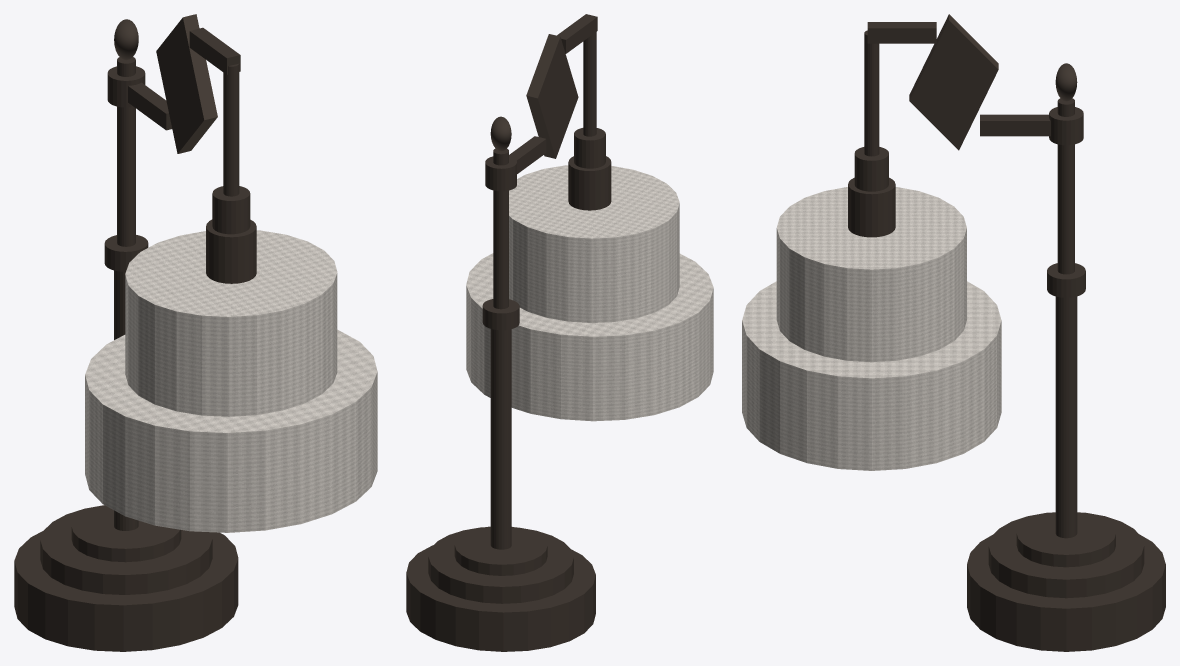
3 renders of one model, left to right at view 1: azimuth 30°, elevation 25°; view 2: azimuth 150°, elevation 25°; view 3: azimuth 270°, elevation 25°, orthographic. The views are drawn at different scales.
Visible parts, largest first — view 1: 16 shade_lower, 15 shade_upper, 1 base_bottom, 2 base_mid, 10 arm_curve_up, 3 base_top, 6 upper_stem, 14 socket_holder, 12 arm_drop, 13 socket_collar, 11 arm_top_arch, 9 arm_horizontal (+4 smaller); view 2: 16 shade_lower, 15 shade_upper, 1 base_bottom, 2 base_mid, 4 lower_stem, 10 arm_curve_up, 3 base_top, 6 upper_stem, 14 socket_holder, 12 arm_drop, 13 socket_collar, 5 mid_collar (+4 smaller); view 3: 16 shade_lower, 15 shade_upper, 1 base_bottom, 2 base_mid, 10 arm_curve_up, 4 lower_stem, 3 base_top, 6 upper_stem, 14 socket_holder, 12 arm_drop, 9 arm_horizontal, 11 arm_top_arch (+4 smaller).
Boxes of the visible parts, bbox=[...] form: 16 shade_lower: bbox=[85, 329, 377, 532]; 15 shade_upper: bbox=[125, 230, 337, 416]; 1 base_bottom: bbox=[14, 531, 238, 651]; 2 base_mid: bbox=[40, 505, 212, 594]; 10 arm_curve_up: bbox=[156, 14, 217, 153]; 3 base_top: bbox=[71, 505, 181, 562]; 6 upper_stem: bbox=[117, 57, 135, 246]; 14 socket_holder: bbox=[206, 219, 256, 283]; 12 arm_drop: bbox=[223, 63, 239, 196]; 13 socket_collar: bbox=[212, 186, 250, 234]; 11 arm_top_arch: bbox=[189, 27, 240, 74]; 9 arm_horizontal: bbox=[128, 82, 172, 130]; 16 shade_lower: bbox=[466, 253, 713, 421]; 15 shade_upper: bbox=[509, 165, 679, 322]; 1 base_bottom: bbox=[406, 545, 595, 651]; 2 base_mid: bbox=[428, 527, 573, 603]; 4 lower_stem: bbox=[490, 329, 511, 549]; 10 arm_curve_up: bbox=[526, 34, 578, 158]; 3 base_top: bbox=[454, 526, 547, 575]; 6 upper_stem: bbox=[493, 148, 508, 309]; 14 socket_holder: bbox=[568, 156, 611, 210]; 12 arm_drop: bbox=[583, 32, 596, 136]; 13 socket_collar: bbox=[574, 128, 605, 168]; 5 mid_collar: bbox=[482, 299, 519, 330]; 16 shade_lower: bbox=[742, 281, 1001, 470]; 15 shade_upper: bbox=[776, 187, 966, 362]; 1 base_bottom: bbox=[967, 534, 1165, 651]; 2 base_mid: bbox=[988, 512, 1144, 598]; 10 arm_curve_up: bbox=[909, 14, 998, 150]; 4 lower_stem: bbox=[1055, 296, 1077, 538]; 3 base_top: bbox=[1016, 512, 1115, 567]; 6 upper_stem: bbox=[1057, 98, 1074, 274]; 14 socket_holder: bbox=[848, 177, 895, 237]; 12 arm_drop: bbox=[864, 30, 879, 156]; 9 arm_horizontal: bbox=[980, 114, 1050, 136]; 11 arm_top_arch: bbox=[867, 22, 936, 43].
Bounding box in the file's own units: 0.221 × 0.5232 × 0.3404.
Materials: 2 (1 with a texture image).
